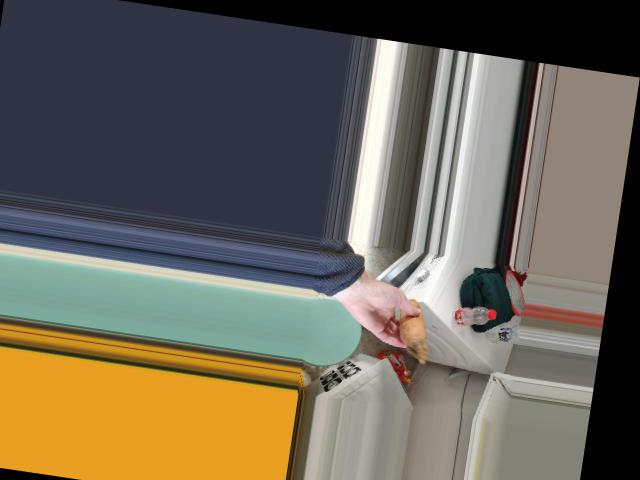sweet_potato: (397, 304, 429, 347)
